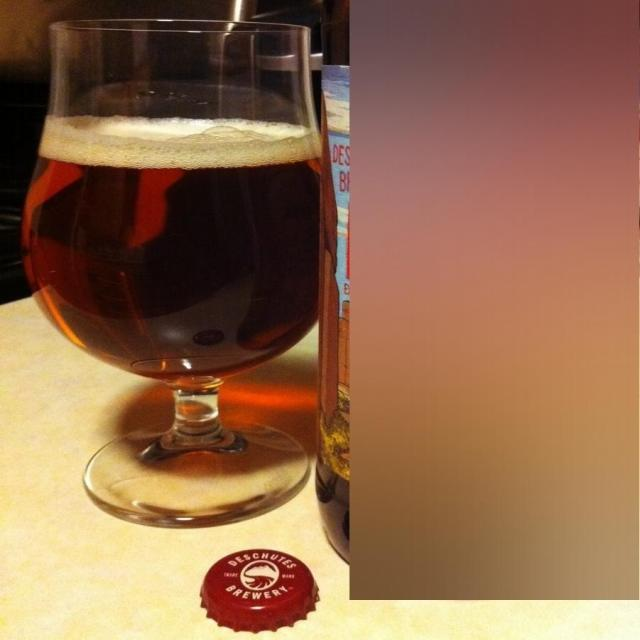glass-wine: (22, 18, 325, 529)
